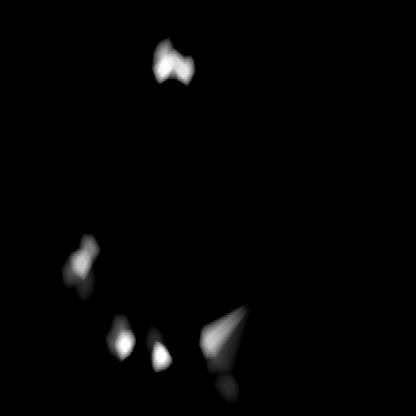fingers: (150, 37, 192, 86)
palm: (68, 234, 219, 366)
